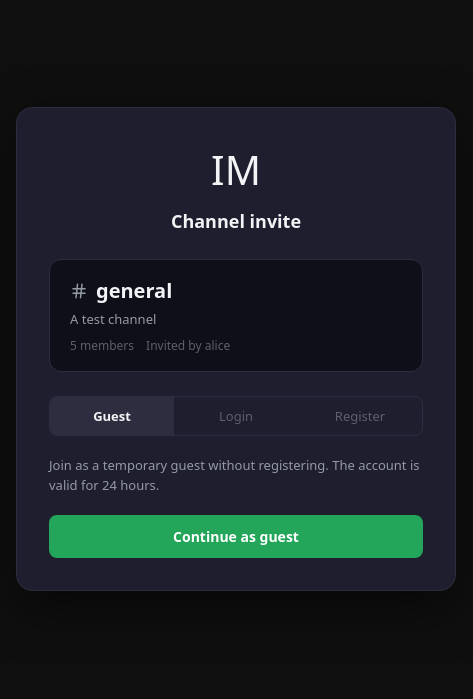
Scenario: InvitePage › clicking Register tab shows username, email and password fields
Expected: the text "general" is shown, [96, 276, 172, 306]
Click the button "Register" at (360, 416), box [298, 397, 422, 435]
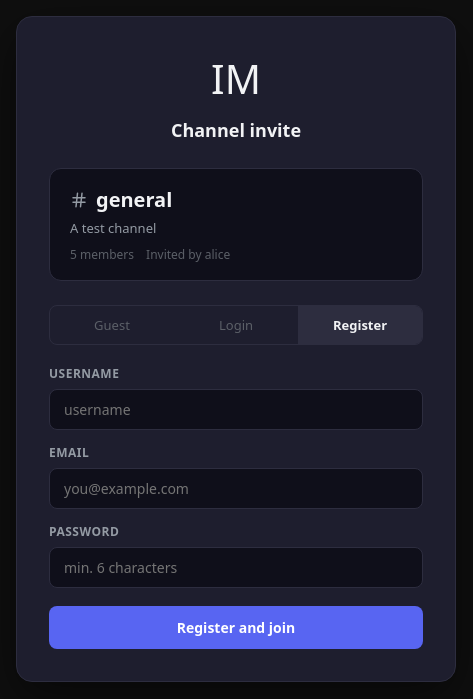
Expected: the field with placeholder "username" is shown, [49, 389, 423, 430]
Expected: the field with placeholder "you@example.com" is shown, [49, 468, 423, 509]
Expected: the password field with placeholder "min. 6 characters" is shown, [49, 547, 423, 588]
